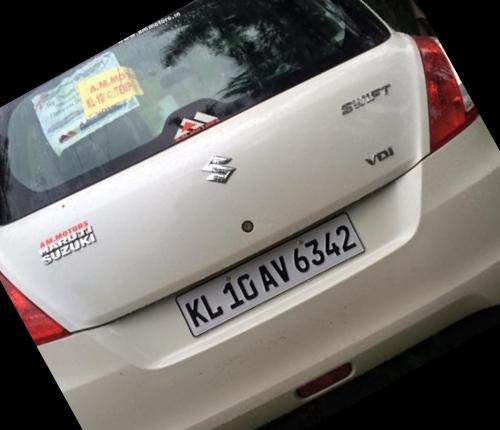plate: (165, 193, 378, 355)
